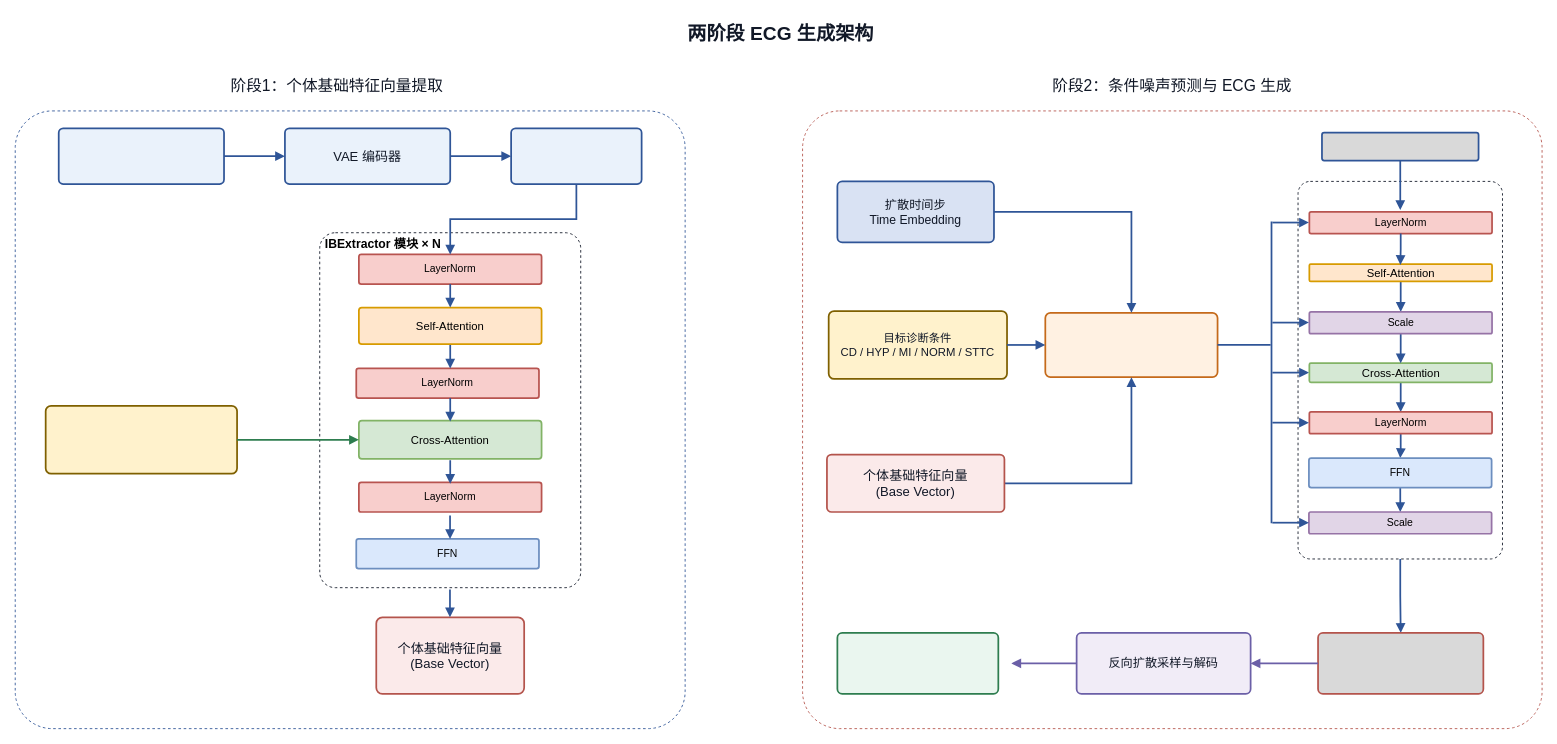
This 1557x744 diagram has some shape labels left out. Here are the shapes that lost their labels. From the top down, the box of each, then its label:
(57, 127, 224, 184): 参考 ECG
(510, 127, 642, 184): 参考 ECG 潜变量
(1321, 131, 1479, 161): 加噪 ECG 潜变量
(1044, 311, 1218, 378): 条件调制模块 (生成偏移、缩放、门控参数)
(1297, 181, 1502, 559): 噪声预测模块 × N
(44, 405, 238, 474): 参考心电条件 报告文本 / 患者信息
(836, 632, 999, 694): 生成 ECG 波形 12 导联
(1317, 632, 1484, 694): 预测噪声
